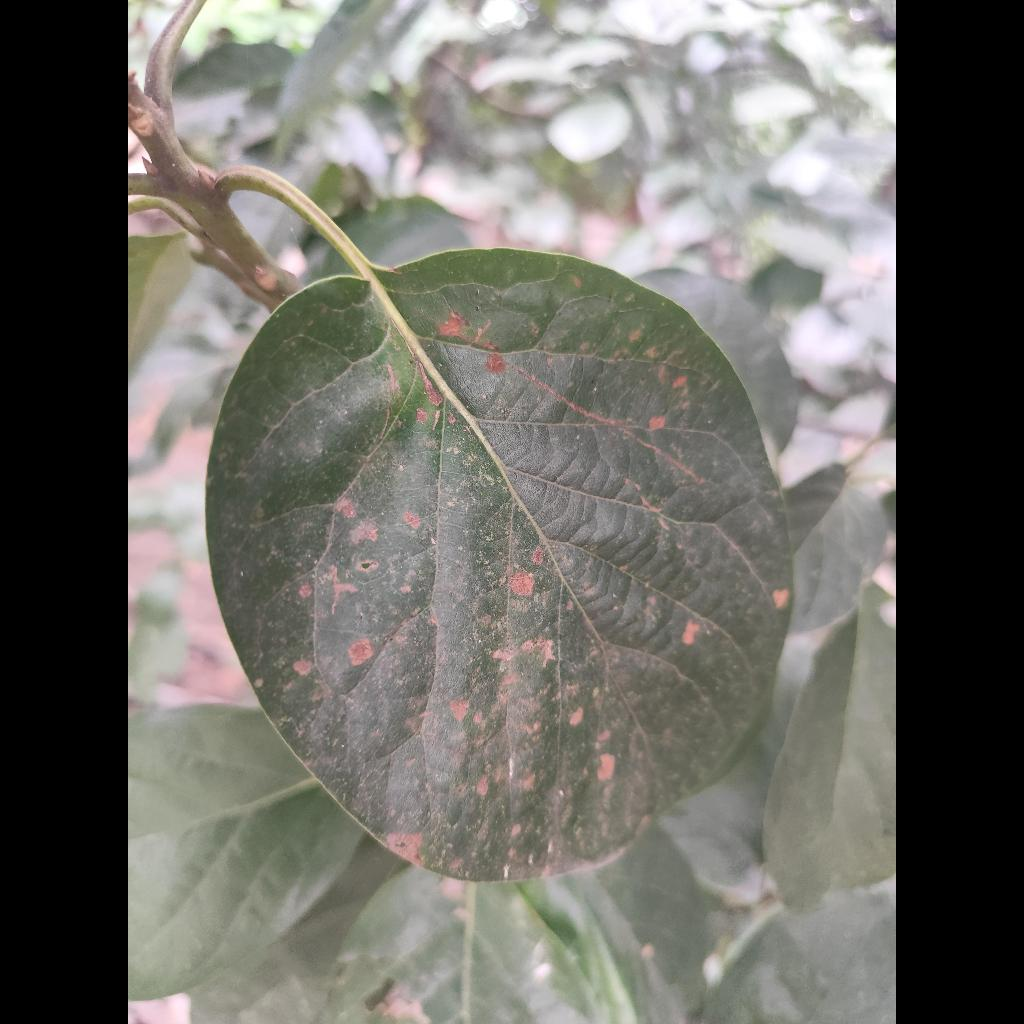antracnosis_hoja: (208, 250, 793, 882)
